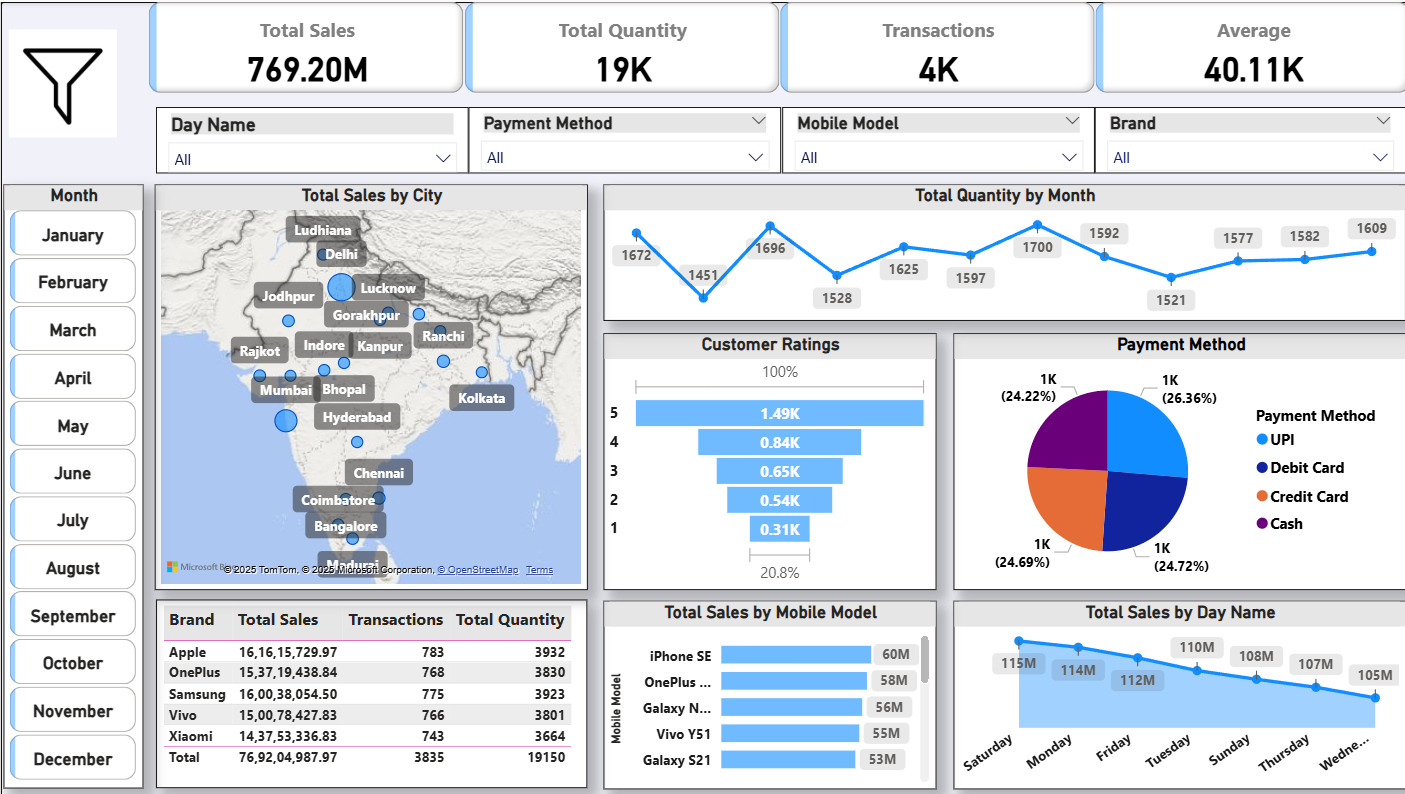

Layout of this report page (visuals, bound fields, positions):
{"tool":"powerbi","page":{"name":"Page 1","canvas":[1280,720],"ordinal":0},"visuals":[{"type":"pieChart","title":" Payment Method","fields":{"Y":["Sales_Data.Transactions"],"Category":["Sheet1.Payment Method"]},"box":[860.4,299.1,410.3,231.9],"z":0},{"type":"slicer","fields":{"Values":["Sheet1.Brand"]},"box":[988,94.7,281.3,60.4],"z":1000},{"type":"slicer","fields":{"Values":["Sheet1.Mobile Model"]},"box":[705.3,94.7,282.7,60.4],"z":2000},{"type":"slicer","fields":{"Values":["Sheet1.Payment Method"]},"box":[422.6,94.7,282.7,60.4],"z":3000},{"type":"slicer","fields":{"Values":["Sheet1.Day Name"]},"box":[140,94.7,282.7,60.4],"z":4000},{"type":"funnel","title":" Customer Ratings","fields":{"Category":["Sheet1.Customer Ratings"],"Y":["CountNonNull(Sheet1.Customer Ratings)"]},"box":[544.8,299.1,300.5,231.9],"z":5000},{"type":"cardVisual","fields":{"Data":["Sales_Data.Total Sales","Sales_Data.Total Quantity","Sales_Data.Transactions","Sales_Data.Average"]},"box":[129,0,1151.3,94.7],"z":6000},{"type":"lineChart","fields":{"Y":["Sales_Data.Total Quantity"],"Category":["Sales_Data.Date.Variation.Date Hierarchy.Month"]},"box":[544.8,164.7,724.5,123.5],"z":7000},{"type":"areaChart","fields":{"Category":["Sales_Data.Day Name"],"Y":["Sales_Data.Total Sales"]},"box":[860.4,540.7,408.9,170.2],"z":8000},{"type":"clusteredBarChart","fields":{"Category":["Sales_Data.Mobile Model"],"Y":["Sales_Data.Total Sales"]},"box":[544.8,540.7,300.5,170.2],"z":9000},{"type":"tableEx","fields":{"Values":["Sales_Data.Brand","Sales_Data.Total Sales","Sales_Data.Transactions","Sales_Data.Total Quantity"]},"box":[140,539.7,389.6,170.5],"z":10000},{"type":"map","fields":{"Category":["Sales_Data.City"],"Size":["Sales_Data.Total Sales"]},"box":[138.6,164.7,391.1,366.4],"z":11000},{"type":"advancedSlicerVisual","fields":{"Values":["Sales_Data.Date.Variation.Date Hierarchy.Month"]},"box":[2.3,164.9,126.5,545.4],"z":12000},{"type":"image","box":[2.3,0,107.3,146.8],"z":13000}]}

Visuals, with their boxes in screenshot pixels (x1, y1, x2, y2), scaled from the page's 1280x720 canvas onto the 1405x794 screenshot:
" Payment Method" pieChart: (left=944, top=330, right=1395, bottom=586)
slicer - Sheet1.Brand: (left=1084, top=104, right=1393, bottom=171)
slicer - Sheet1.Mobile Model: (left=774, top=104, right=1084, bottom=171)
slicer - Sheet1.Payment Method: (left=464, top=104, right=774, bottom=171)
slicer - Sheet1.Day Name: (left=154, top=104, right=464, bottom=171)
" Customer Ratings" funnel: (left=598, top=330, right=928, bottom=586)
cardVisual - Sales_Data.Total Sales x Sales_Data.Total Quantity: (left=142, top=0, right=1404, bottom=104)
lineChart - Sales_Data.Total Quantity x Sales_Data.Date.Variation.Date Hierarchy.Month: (left=598, top=182, right=1393, bottom=318)
areaChart - Sales_Data.Day Name x Sales_Data.Total Sales: (left=944, top=596, right=1393, bottom=784)
clusteredBarChart - Sales_Data.Mobile Model x Sales_Data.Total Sales: (left=598, top=596, right=928, bottom=784)
tableEx - Sales_Data.Brand x Sales_Data.Total Sales: (left=154, top=595, right=581, bottom=783)
map - Sales_Data.City x Sales_Data.Total Sales: (left=152, top=182, right=581, bottom=586)
advancedSlicerVisual - Sales_Data.Date.Variation.Date Hierarchy.Month: (left=3, top=182, right=141, bottom=783)
image: (left=3, top=0, right=120, bottom=162)
